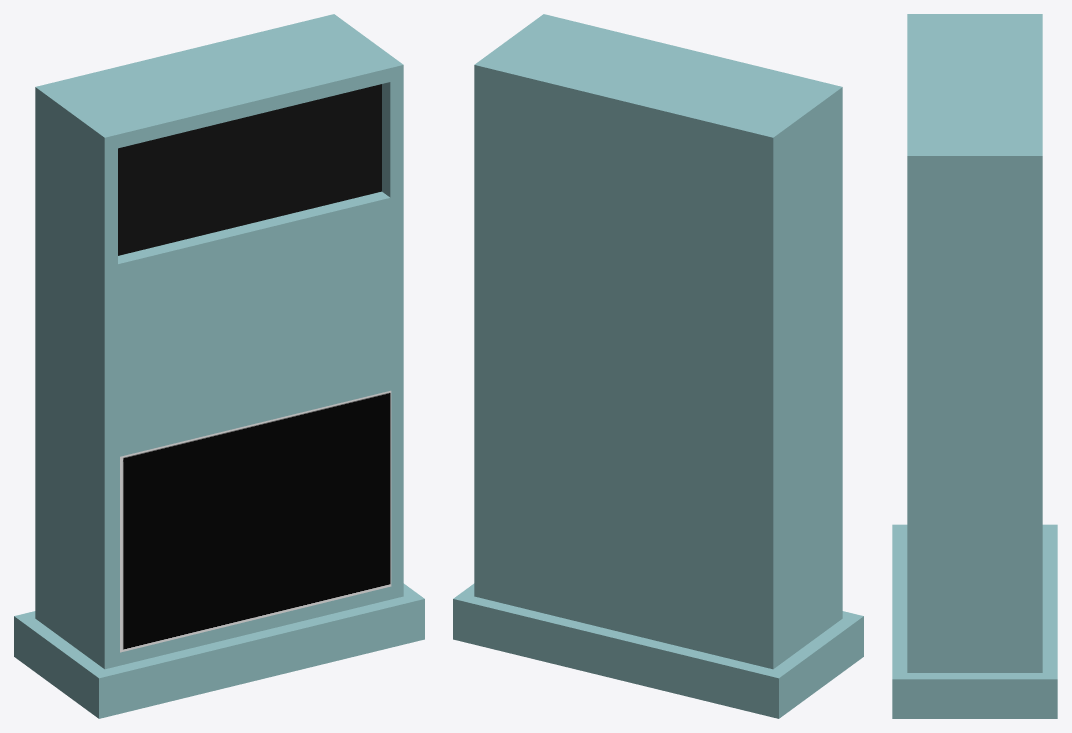
File: Itr_Airconditioner1_Body_04.FBX
3 renders of one model, left to right at view 1: azimuth 30°, elevation 25°; view 2: azimuth 150°, elevation 25°; view 3: azimuth 270°, elevation 25°, orthographic. The views are drawn at different scales.
Parts seen in each view (by area): view 1: Itr_Airconditioner1_Body_04; view 2: Itr_Airconditioner1_Body_04; view 3: Itr_Airconditioner1_Body_04.
Boxes of the visible parts, box(x1,y1,x2,y2) form: Itr_Airconditioner1_Body_04: box(14, 14, 424, 718); Itr_Airconditioner1_Body_04: box(453, 14, 863, 718); Itr_Airconditioner1_Body_04: box(892, 14, 1057, 718).
Size of the model in its own units: 48.49 by 81.38 by 21.9.
